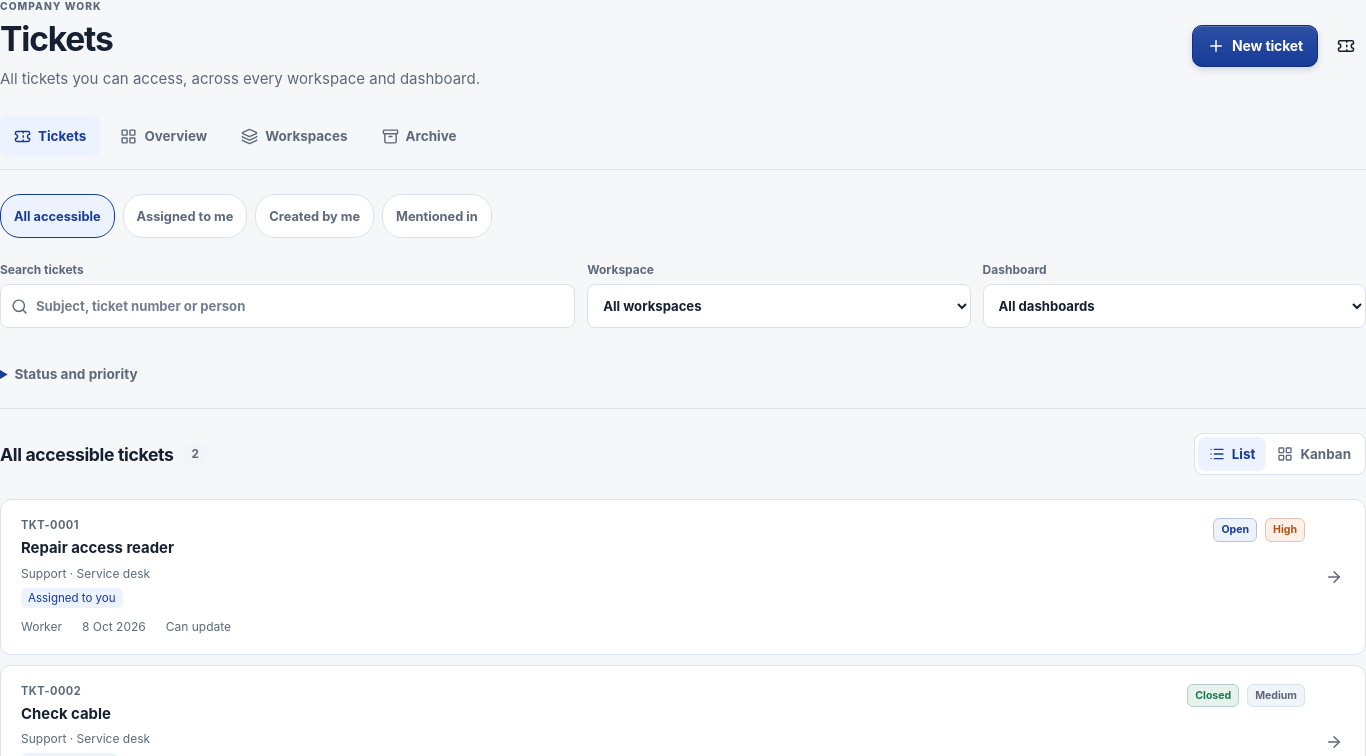
Test: Company ticket workspace › keeps a successful creation saved when the following refresh fails
Click the button "New ticket". click: (1255, 46)
box: x1=1192 y1=25 x2=1318 y2=67
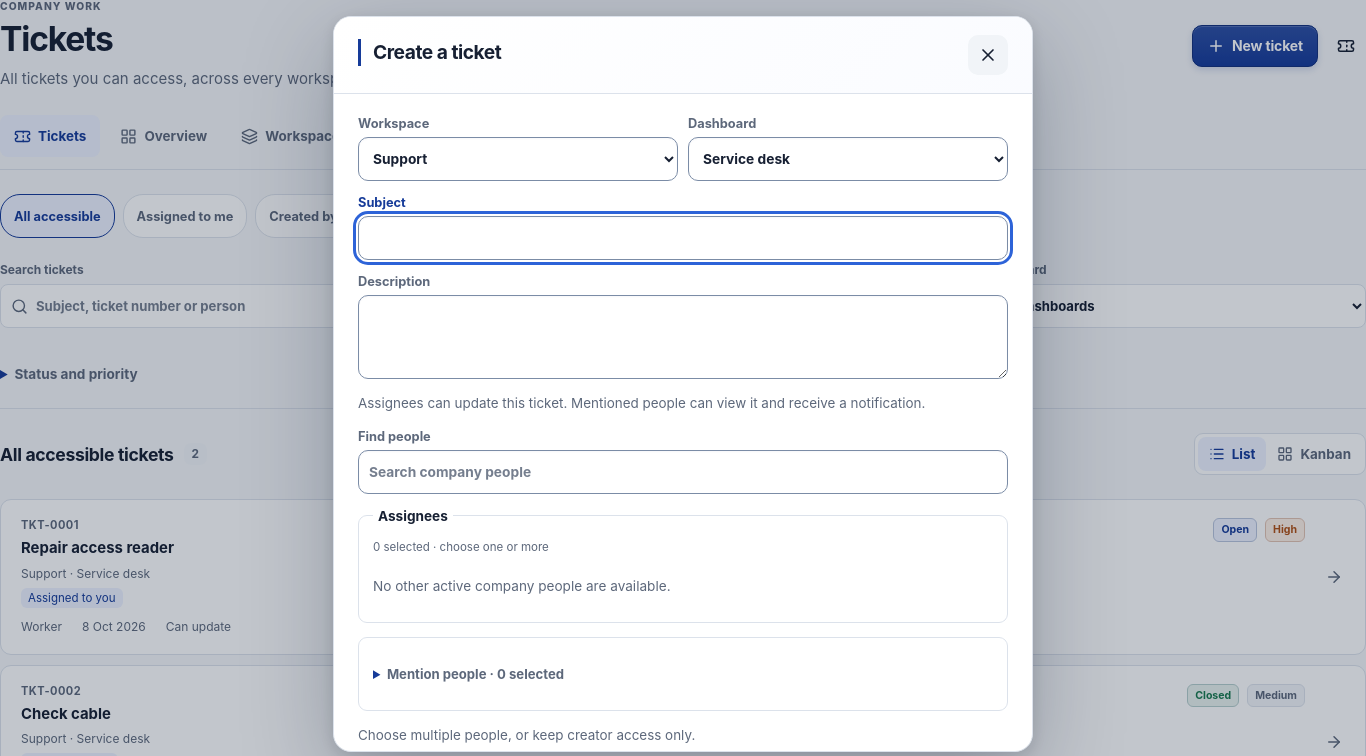
Type "Inspect reader" into the field labelled "Subject". click: (683, 238)
box: x1=358 y1=216 x2=1008 y2=260
(page scrolled)
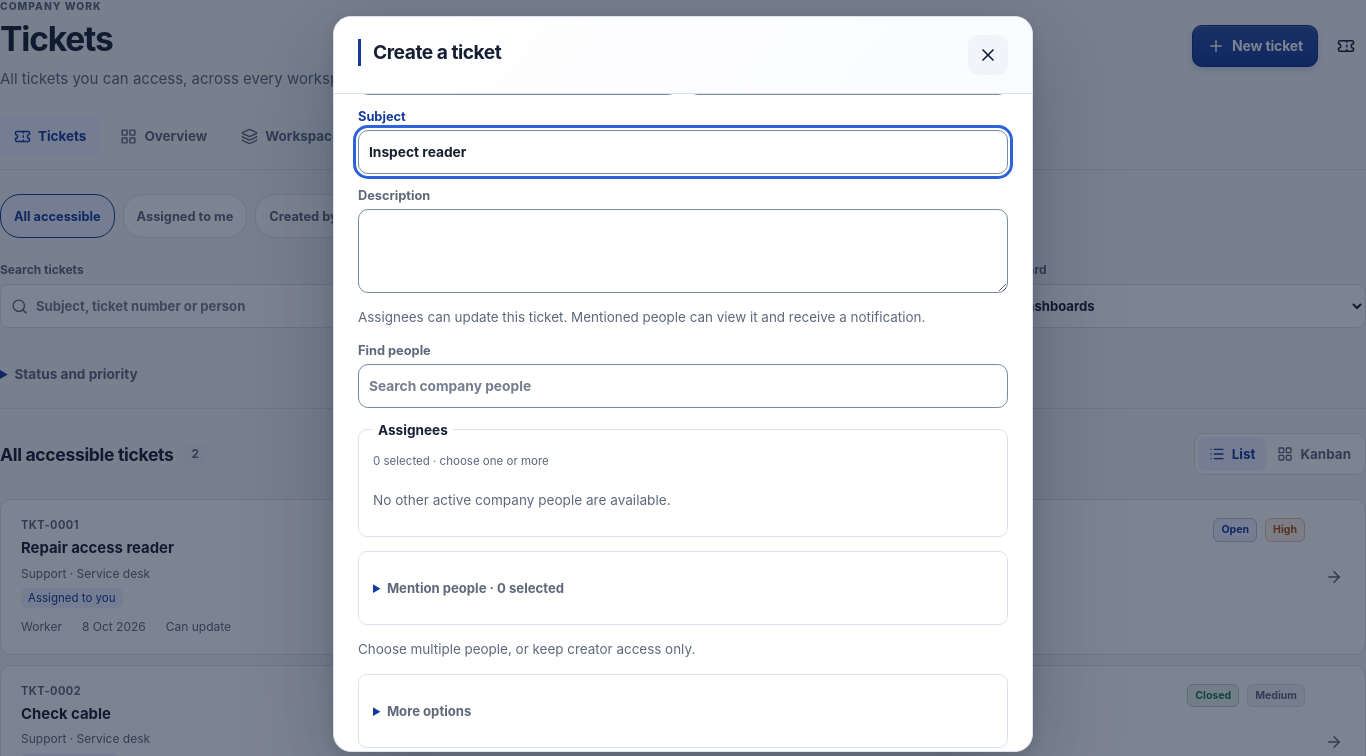
Submit the form named "Create ticket"
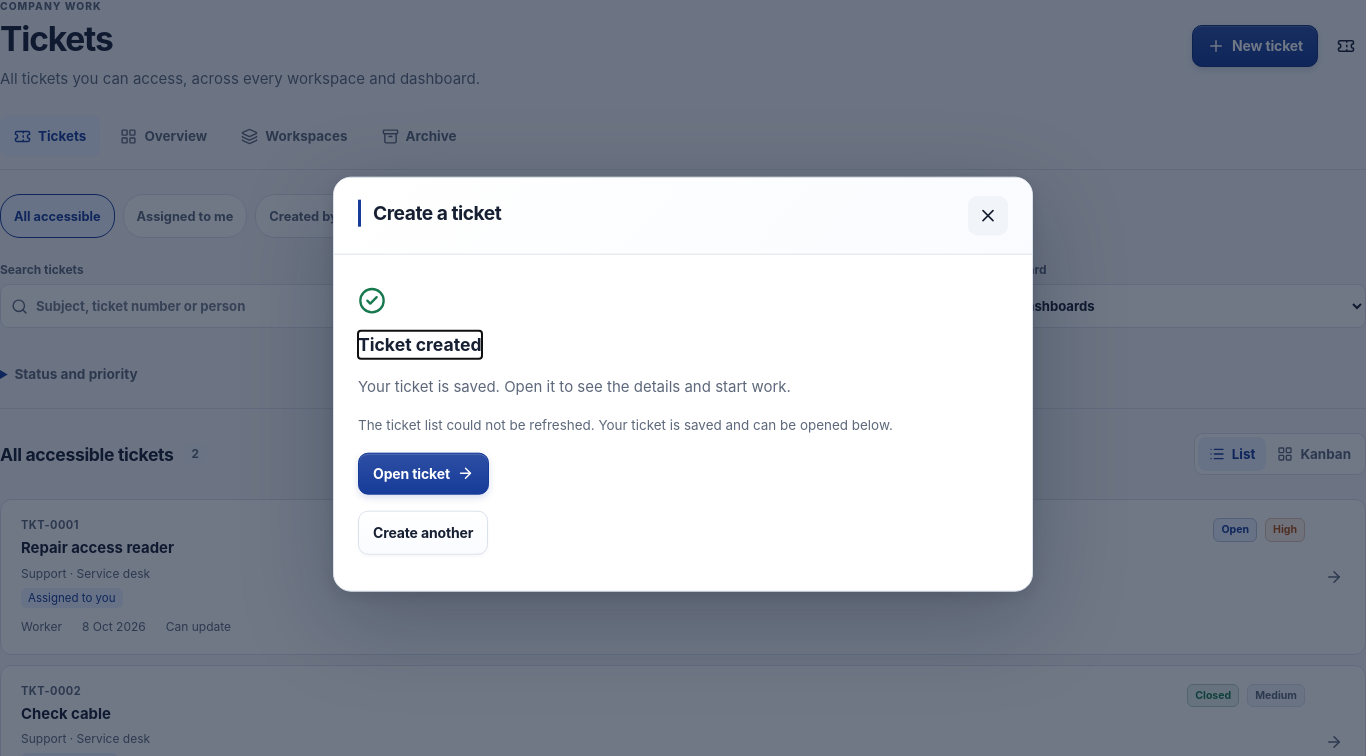
Now the heading "Ticket created" is shown, box x1=358 y1=331 x2=482 y2=359
Now the text "The ticket list could not be refreshed" is shown, box x1=358 y1=417 x2=893 y2=433
